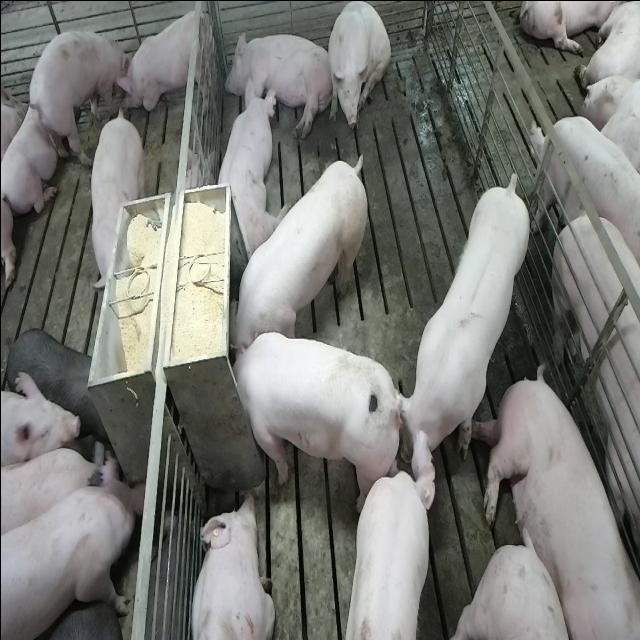Feeding: (228, 146, 372, 360), (221, 330, 395, 500)
Lateral_lying: (224, 28, 334, 140)
Sitting: (120, 0, 218, 120), (325, 2, 390, 136)
Standing: (390, 160, 530, 477), (549, 204, 640, 615), (2, 455, 142, 640), (530, 110, 640, 260), (345, 469, 436, 639), (28, 27, 128, 162), (3, 433, 107, 548), (82, 107, 142, 287), (2, 324, 102, 428)
Sternal_lying: (186, 490, 274, 640), (210, 80, 274, 258), (1, 82, 66, 212)
